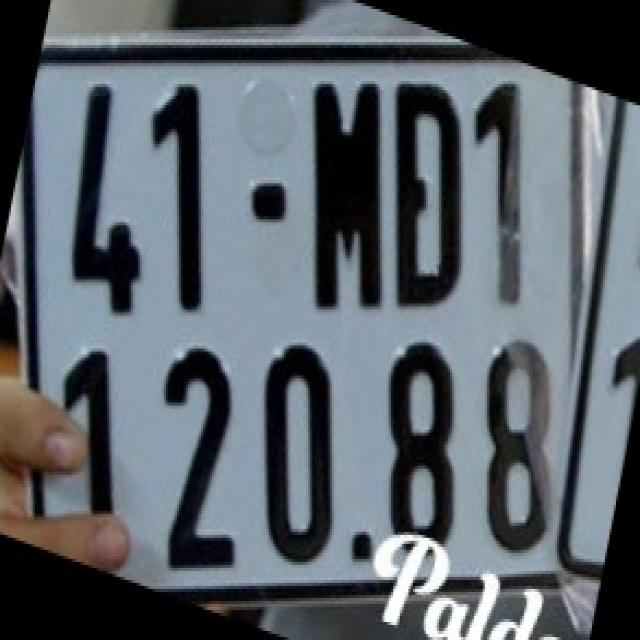0: (260, 336, 338, 565)
1: (148, 78, 218, 313), (59, 342, 131, 535), (472, 78, 531, 307)
2: (155, 336, 240, 574)
4: (66, 81, 146, 319)
8: (480, 330, 552, 553), (384, 336, 456, 544)
D: (391, 81, 463, 307)
M: (309, 72, 386, 316)
